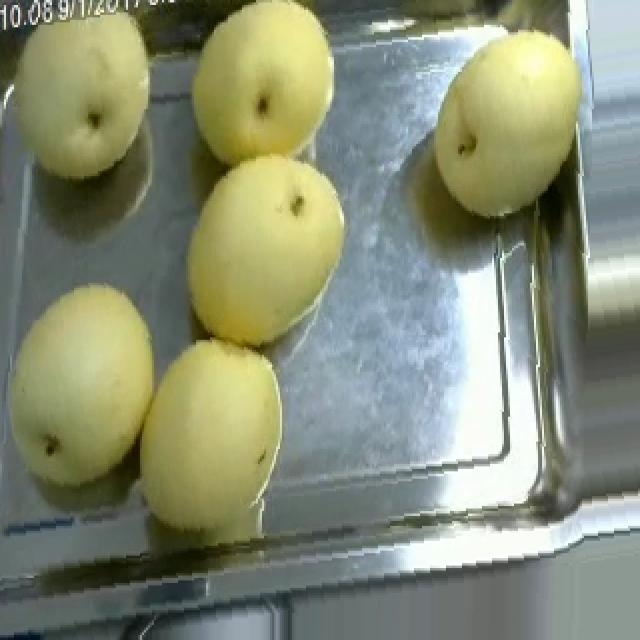Fruit: (0, 268, 176, 511), (112, 325, 298, 546), (170, 142, 360, 358), (418, 20, 600, 231), (0, 0, 174, 201), (170, 0, 352, 186)
